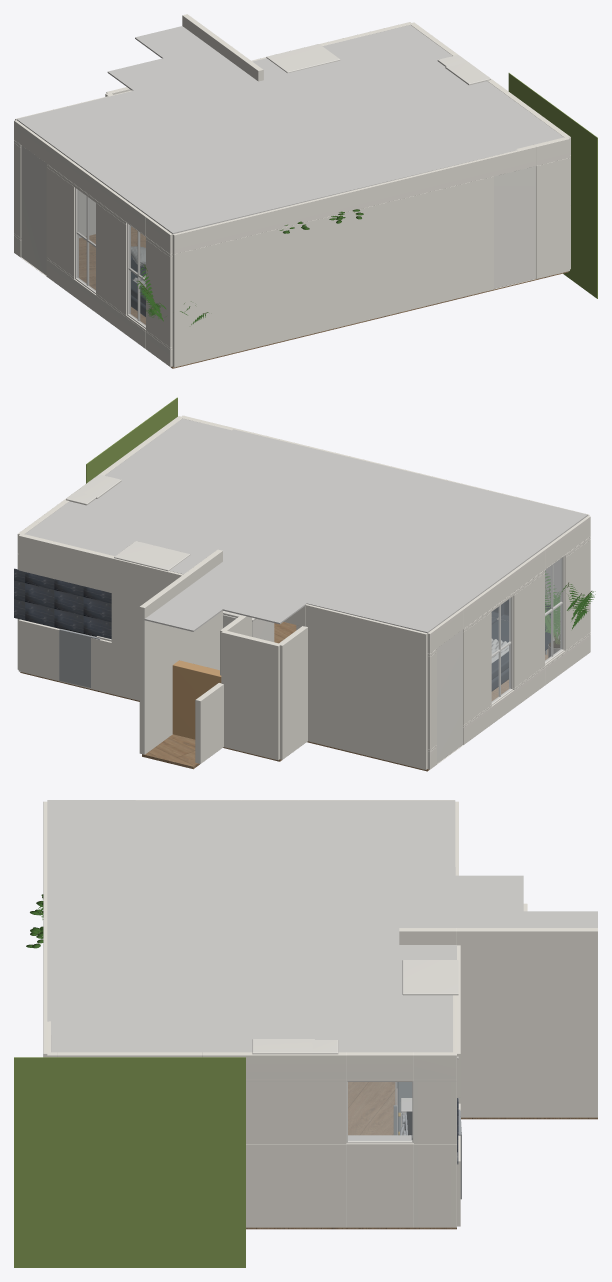
3 renders of one model, top to bottom at view 1: azimuth 30°, elevation 25°; view 2: azimuth 150°, elevation 25°; view 3: azimuth 270°, elevation 25°, orthographic. The views are drawn at different scales.
Visible parts, largest first — view 1: source-measured-main-ceiling, wall_8_segment.006, wall_8_segment.007, inferred_outdoor_brightness, door_panel.002, wall_8_segment.001, door_panel, wall_0_segment.015, wall_0_segment.027, wall_0_segment.003, glass.001, measured_floor_polygon (+16 smaller); view 2: source-measured-main-ceiling, wall_11_segment, wall_1_segment, wall_4_segment, wall_3_segment, source black tile backsplash, extent pattern candidate, wall_9_segment, wall_0_segment.015, door_panel, wall_0_segment.027, home-downstairs__stairs_01__step.006, wall_0_segment.003 (+18 smaller); view 3: source-measured-main-ceiling, inferred_outdoor_brightness, wall_3_segment, wall_7_segment.007, wall_7_segment.008, wall_7_segment.004, glass.002, wall_7_segment, measured_floor_polygon, wall_7_segment.010, wall_7_segment.001, home-downstairs__storage_17__countertop (+7 smaller).
Part boxes in pixels (x1,y1,x2,y2): source-measured-main-ceiling: (16, 25, 563, 233); wall_8_segment.006: (172, 176, 493, 367); wall_8_segment.007: (172, 156, 493, 254); inferred_outdoor_brightness: (508, 73, 597, 298); door_panel.002: (494, 166, 535, 288); wall_8_segment.001: (536, 158, 569, 278); door_panel: (21, 145, 46, 275); wall_0_segment.015: (96, 203, 130, 315); wall_0_segment.027: (46, 167, 78, 277); wall_0_segment.003: (146, 240, 172, 347); glass.001: (77, 189, 95, 291); measured_floor_polygon: (79, 226, 568, 368); source-measured-main-ceiling: (25, 418, 587, 633); wall_11_segment: (296, 604, 427, 769); wall_1_segment: (18, 534, 183, 700); wall_4_segment: (221, 630, 280, 760); wall_3_segment: (139, 566, 200, 754); source black tile backsplash, extent pattern candidate: (14, 568, 111, 639); wall_9_segment: (279, 626, 307, 759); wall_0_segment.015: (509, 573, 544, 687); door_panel: (437, 630, 462, 763); wall_0_segment.027: (463, 612, 491, 724); home-downstairs__stairs_01__step.006: (172, 660, 221, 739); wall_0_segment.003: (560, 539, 590, 650); source-measured-main-ceiling: (47, 800, 597, 1052); inferred_outdoor_brightness: (14, 1057, 245, 1267); wall_3_segment: (457, 928, 597, 1117); wall_7_segment.007: (246, 1144, 346, 1227); wall_7_segment.008: (246, 1081, 346, 1143); wall_7_segment.004: (346, 1143, 413, 1227); glass.002: (348, 1082, 411, 1140); wall_7_segment: (414, 1144, 456, 1227); measured_floor_polygon: (246, 1082, 597, 1229); wall_7_segment.010: (202, 1052, 346, 1079); wall_7_segment.001: (414, 1081, 456, 1143); home-downstairs__storage_17__countertop: (402, 960, 458, 995).
Bounding box in the file's own units: 8.43 × 3.11 × 7.55.
Materials: 56 (2 with a texture image).
